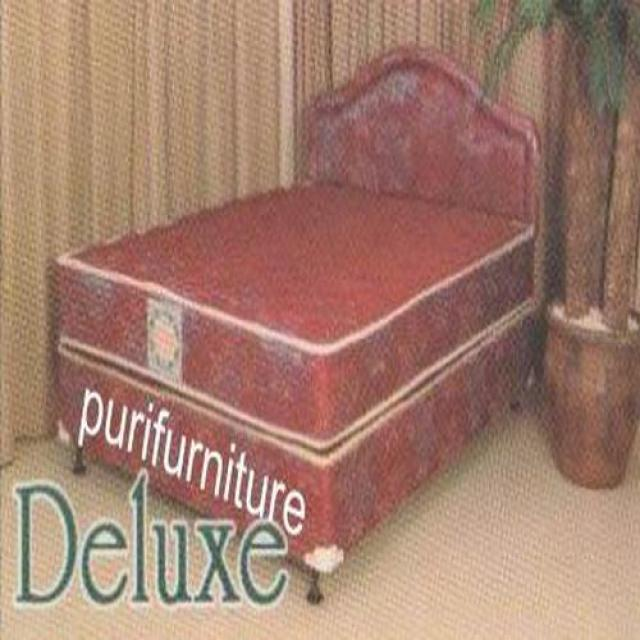bed: (55, 46, 541, 577)
